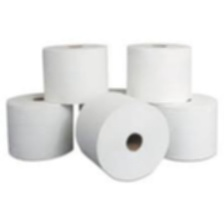tissue: (71, 86, 173, 184), (146, 88, 223, 165), (0, 88, 78, 164), (121, 36, 196, 110), (36, 39, 114, 108)
